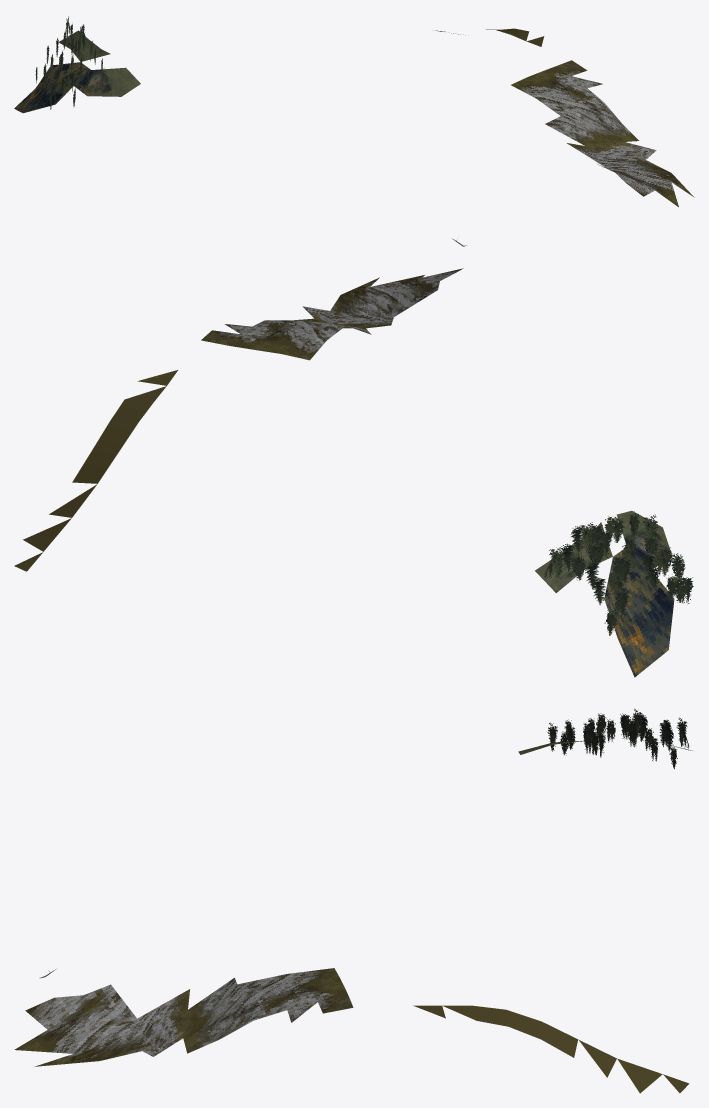
File: world_camden_12_-9.gltf
The picture shows the model from 3 angles, top to bottom: view 1: azimuth 30°, elevation 25°; view 2: azimuth 150°, elevation 25°; view 3: azimuth 270°, elevation 25°; orthographic projection. The views are drawn at different scales.
Bounding box in the file's own units: 265 × 63.04 × 270.
5 materials, 5 textured.
